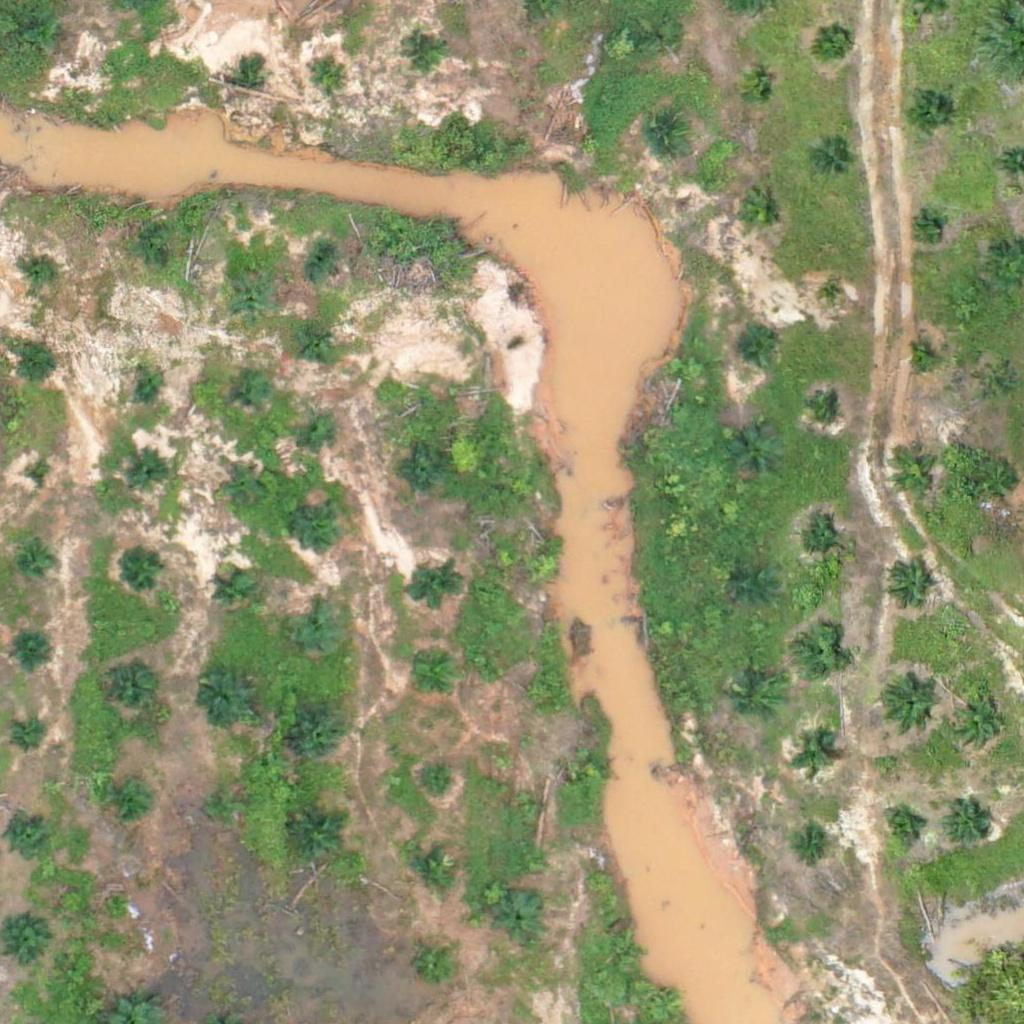Kelapa_Sawit: (191, 665, 254, 728), (288, 601, 351, 664), (946, 690, 1009, 753), (880, 672, 942, 735), (295, 708, 345, 759), (294, 811, 344, 862), (405, 843, 455, 894), (889, 449, 939, 500), (735, 188, 785, 239), (107, 662, 157, 713), (119, 543, 169, 594), (296, 499, 346, 549), (495, 895, 545, 945), (797, 520, 847, 570), (795, 629, 845, 679), (884, 562, 934, 612), (944, 798, 994, 848), (409, 563, 459, 613), (407, 653, 457, 703), (903, 84, 953, 134), (731, 428, 781, 478), (400, 448, 450, 498), (9, 11, 59, 61), (733, 679, 783, 729), (604, 933, 642, 971), (416, 944, 454, 982), (794, 734, 832, 772), (795, 825, 833, 863), (882, 808, 920, 846), (508, 785, 546, 823), (518, 672, 556, 710), (524, 547, 562, 585), (735, 329, 773, 367), (22, 251, 60, 289), (16, 637, 54, 675), (10, 717, 48, 755), (134, 365, 172, 403), (302, 407, 340, 445), (302, 320, 340, 358), (301, 245, 339, 283), (110, 781, 148, 819), (572, 747, 609, 785), (979, 366, 1017, 403), (738, 73, 776, 110), (735, 567, 772, 605), (404, 36, 441, 74), (645, 19, 683, 56), (818, 21, 855, 59), (308, 60, 345, 98), (12, 346, 50, 383), (21, 462, 59, 499), (18, 546, 56, 583), (130, 449, 168, 486), (145, 245, 182, 283), (230, 282, 267, 320), (235, 374, 272, 412), (225, 470, 262, 508), (206, 787, 243, 825), (7, 813, 44, 851), (418, 766, 455, 803), (814, 145, 851, 182), (646, 117, 683, 154), (216, 574, 253, 611), (231, 66, 256, 92), (915, 215, 940, 240), (908, 345, 933, 370), (820, 284, 845, 309), (814, 396, 839, 421)
